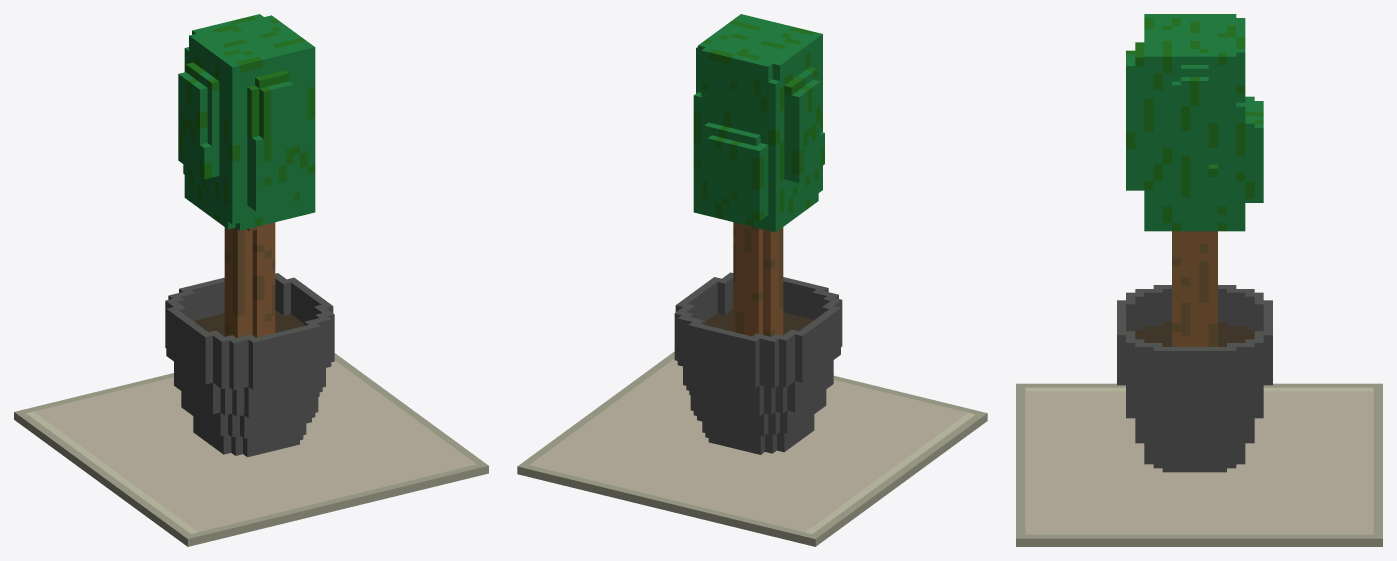
The model's file is Vaso_1.obj.
3 renders of one model, left to right at view 1: azimuth 30°, elevation 25°; view 2: azimuth 150°, elevation 25°; view 3: azimuth 270°, elevation 25°, orthographic. The views are drawn at different scales.
Bounding box in the file's own units: 40 × 52 × 40.
Materials: 1 (1 with a texture image).
